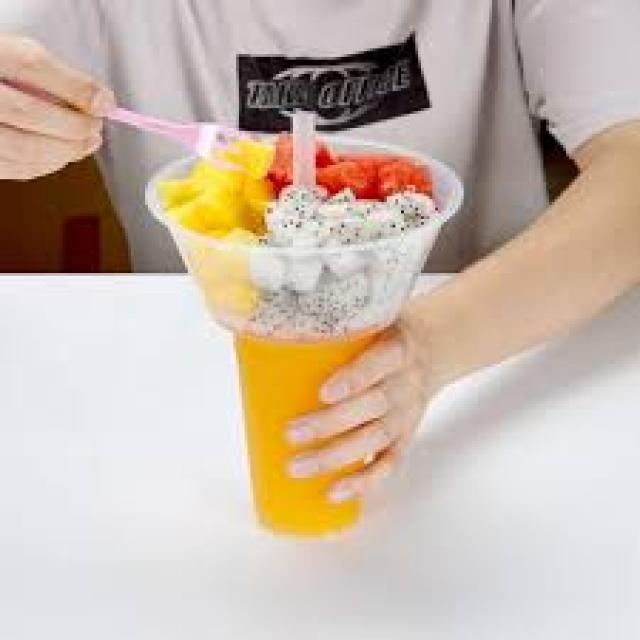bottle: (235, 328, 394, 536)
